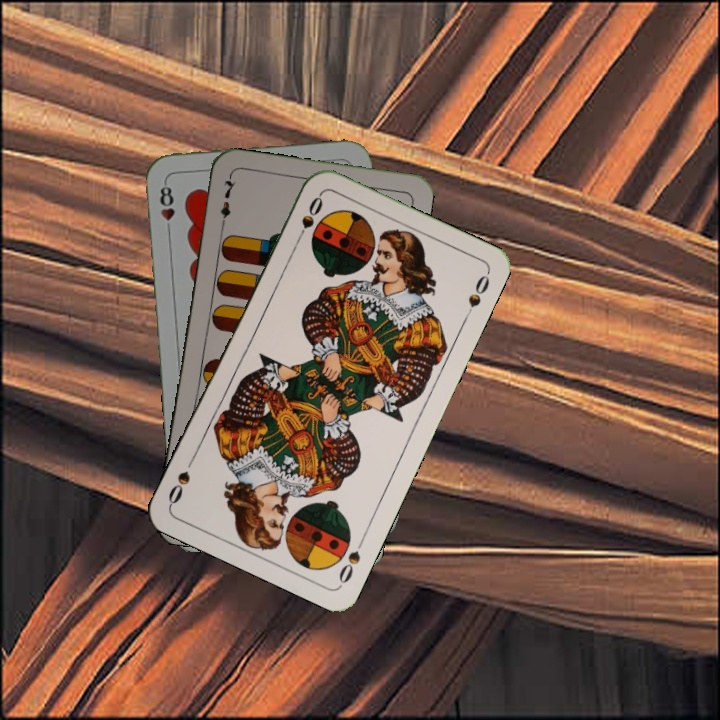E7: (216, 173, 239, 232)
H8: (156, 178, 177, 237)
SO: (291, 191, 326, 246), (334, 532, 368, 587)
